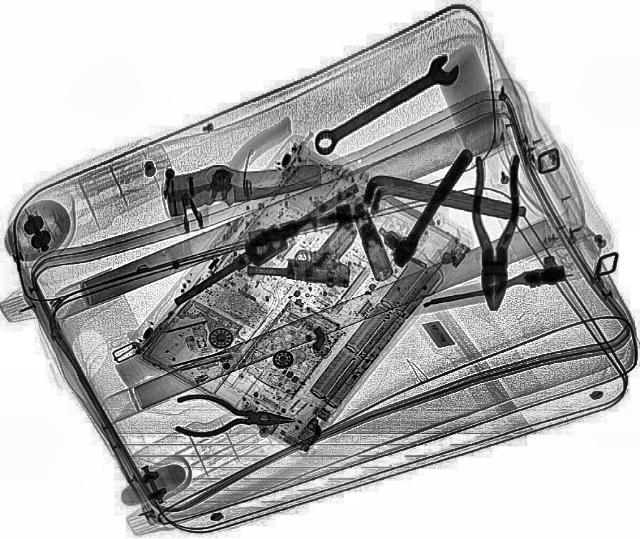Gun: (244, 213, 360, 289)
Pliers: (472, 155, 518, 311), (172, 393, 294, 443)
Wrench: (302, 50, 468, 160)
